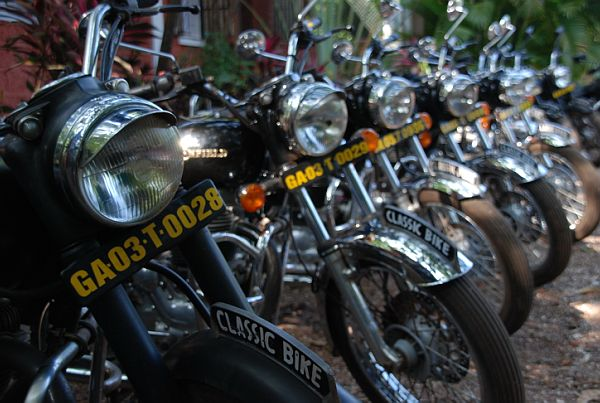number_plate: (56, 177, 229, 302), (279, 138, 375, 193)
